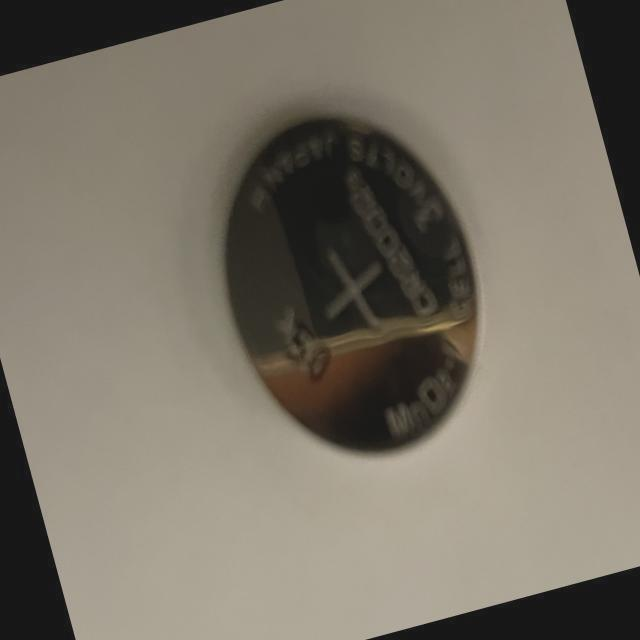COIN: (182, 76, 524, 487)
